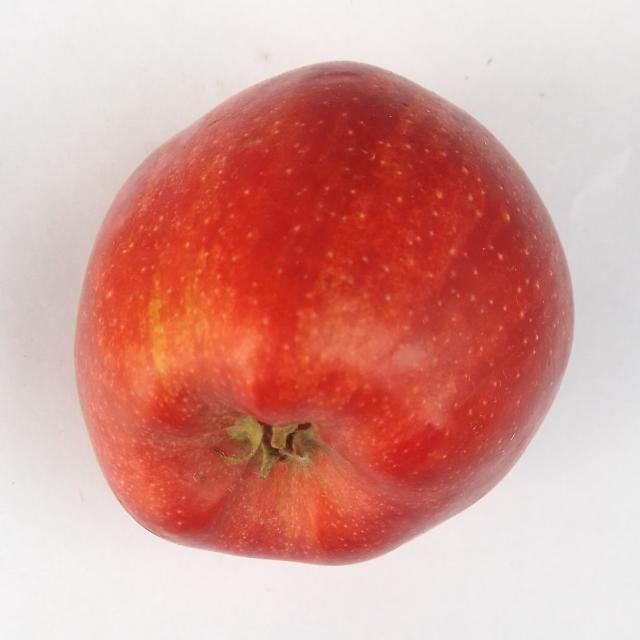Fresh Apple: (65, 60, 577, 568)
